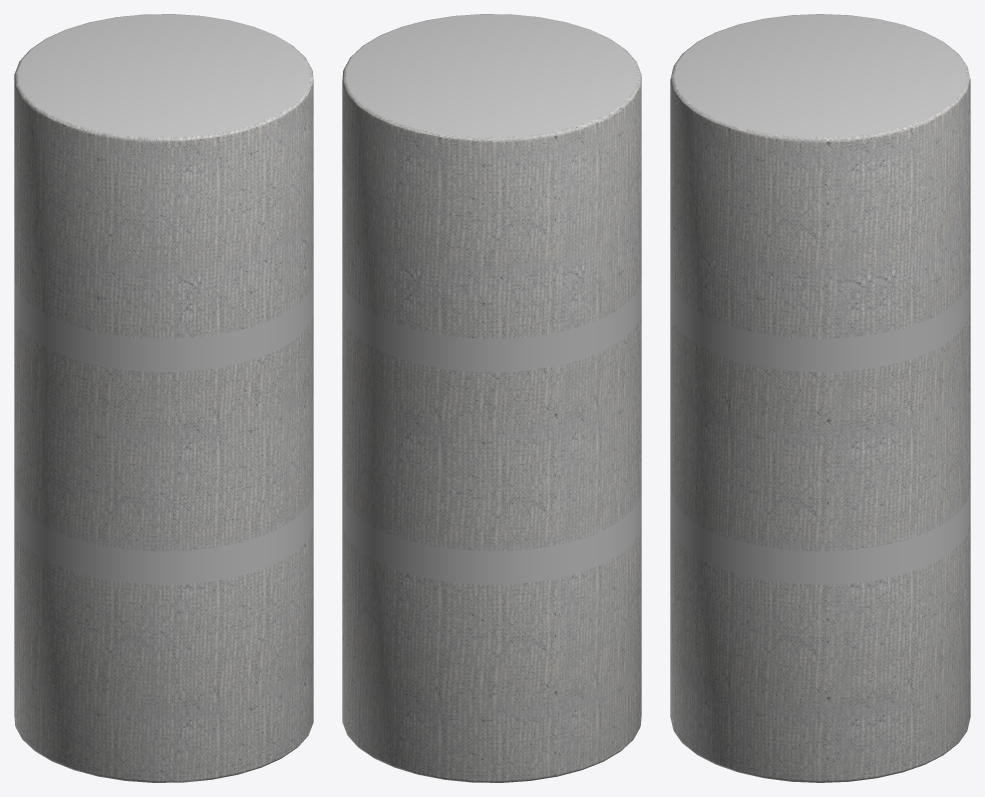
Rendered from GazeRolo.fbx.
The picture shows the model from 3 angles, left to right: view 1: azimuth 30°, elevation 25°; view 2: azimuth 150°, elevation 25°; view 3: azimuth 270°, elevation 25°; orthographic projection.
Visible parts, largest first — view 1: Cylinder.003; view 2: Cylinder.003; view 3: Cylinder.003.
Part boxes in pixels (x1,y1,x2,y2): Cylinder.003: [14, 14, 313, 782]; Cylinder.003: [342, 14, 641, 782]; Cylinder.003: [670, 14, 970, 782].
Size of the model in its own units: 13.05 by 30.94 by 13.05.
